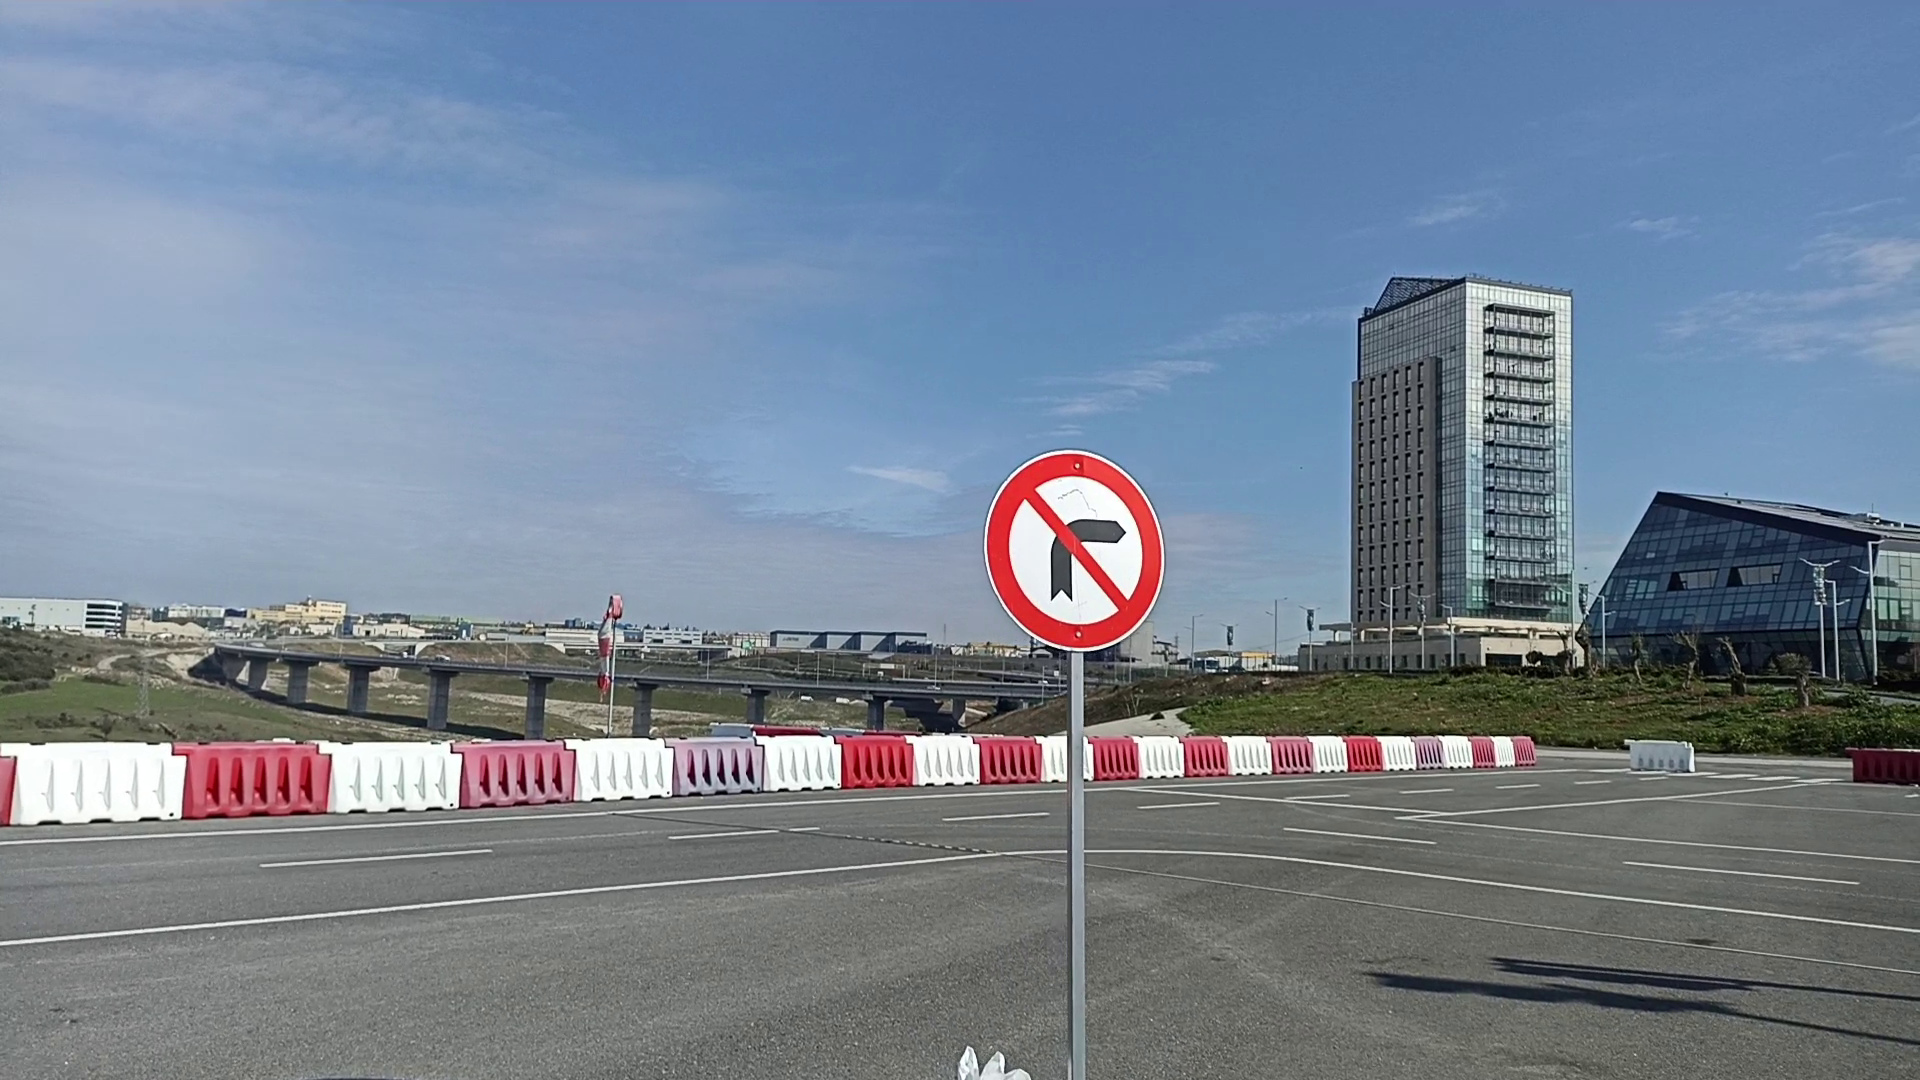noleftturn: (978, 446, 1168, 655)
